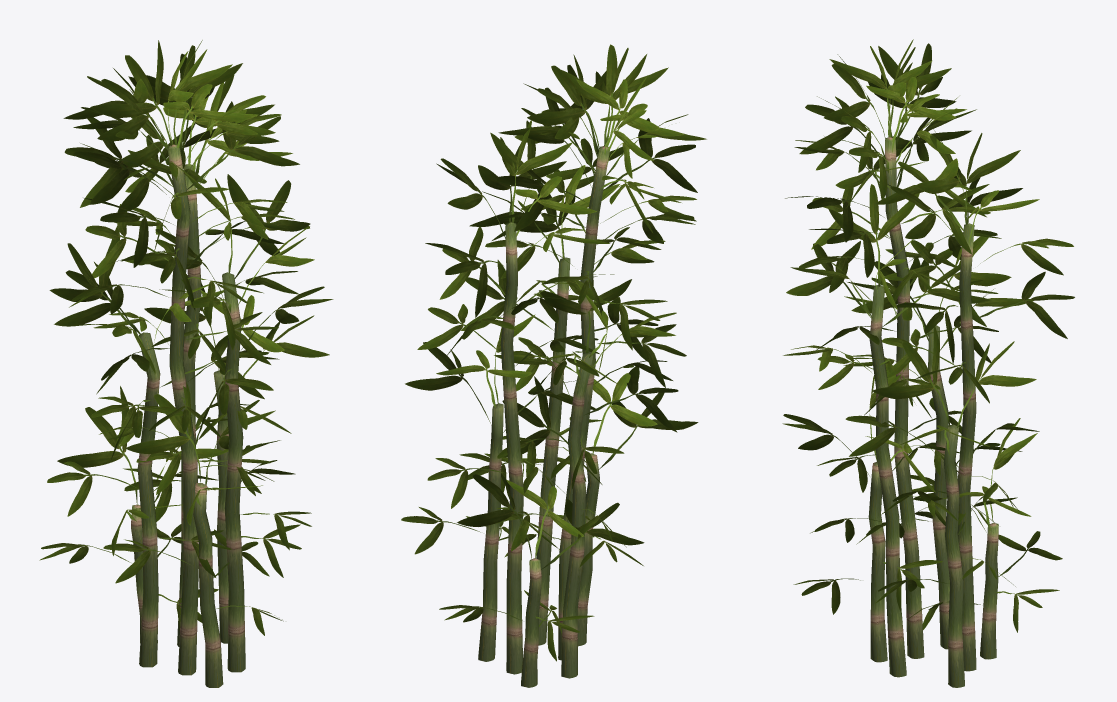
File: SM_Bamboo.fbx
3 views of the same model, side by side, from view 1: azimuth 30°, elevation 25°; view 2: azimuth 150°, elevation 25°; view 3: azimuth 270°, elevation 25° (orthographic). The views are drawn at different scales.
Visible parts, largest first — view 1: SM_Bamboo; view 2: SM_Bamboo; view 3: SM_Bamboo.
Part boxes in pixels (x1=…): SM_Bamboo: x1=39, y1=40, x2=333, y2=687; SM_Bamboo: x1=401, y1=44, x2=706, y2=687; SM_Bamboo: x1=782, y1=39, x2=1074, y2=687.
Bounding box in the file's own units: 80.88 × 87.09 × 171.
2 materials, 2 textured.
